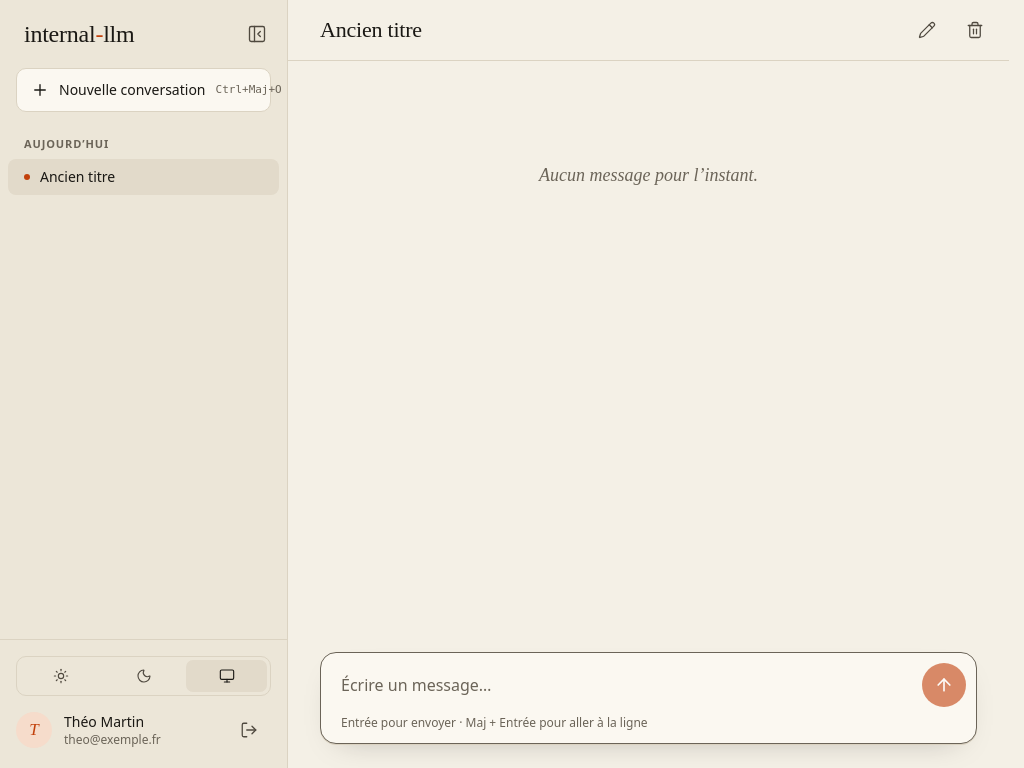
Scenario: renaming a conversation › cancels with Escape
The width and height of the screenshot is (1024, 768).
Expected: the heading "Ancien titre" is shown, [320, 17, 422, 42]
Click the button named "Renommer la conversation" at (927, 30), box [905, 8, 949, 52]
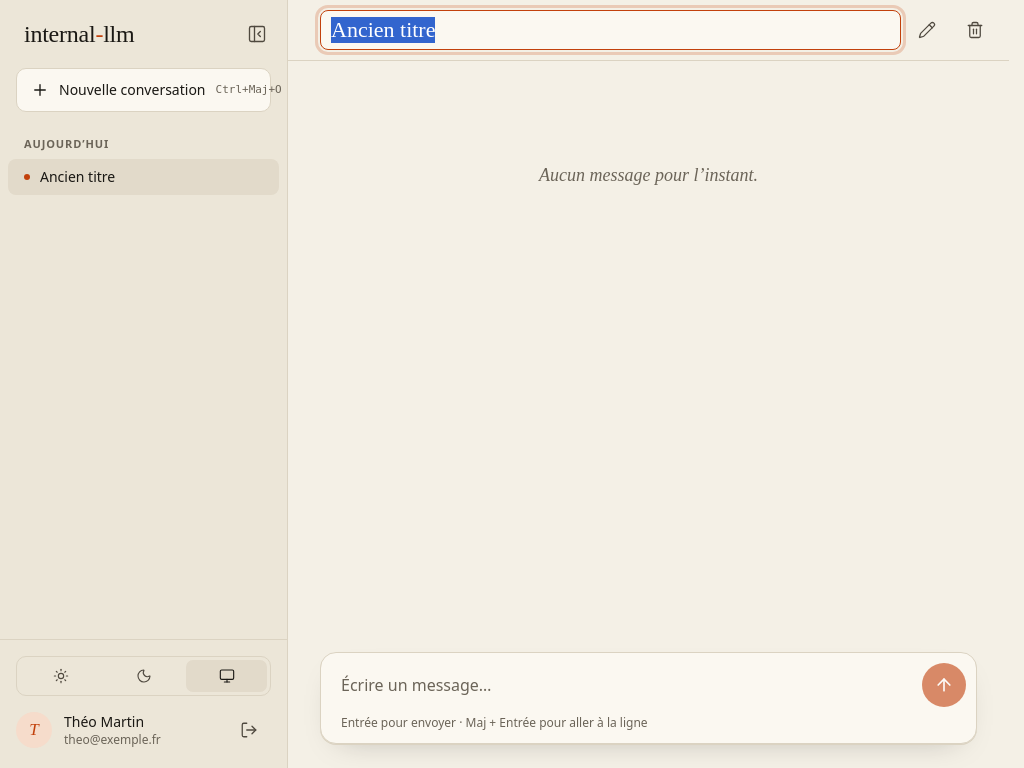
Type " modifié" into the field named "Titre de la conversation" at (610, 30), box [320, 10, 901, 50]
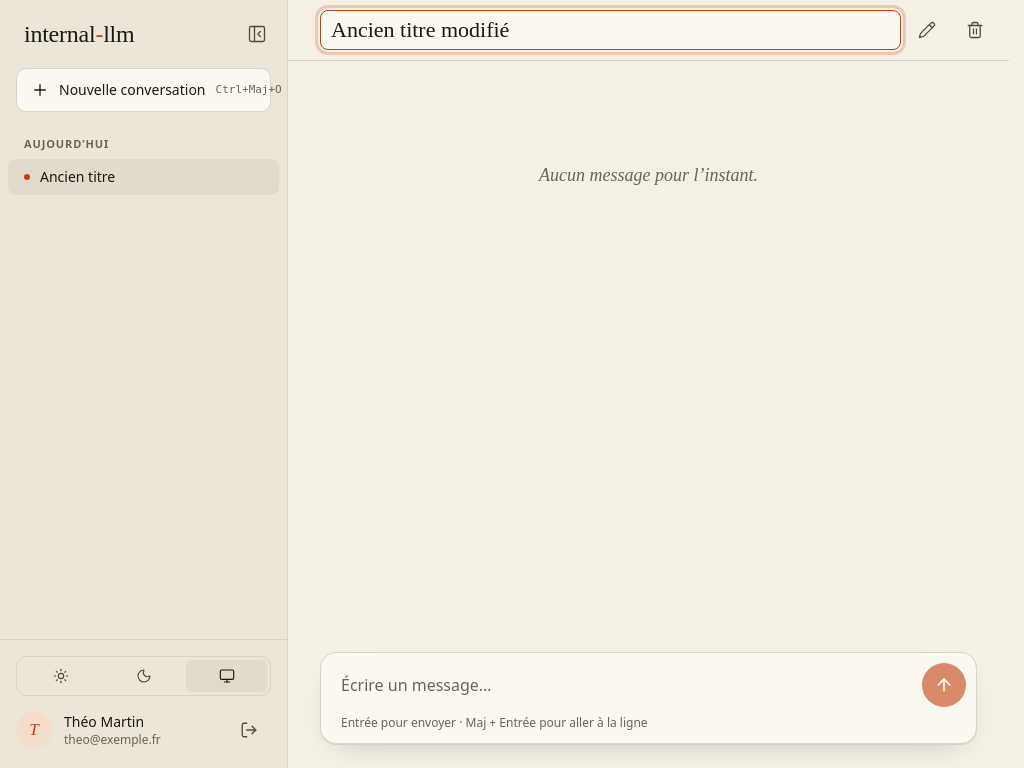
Press Escape
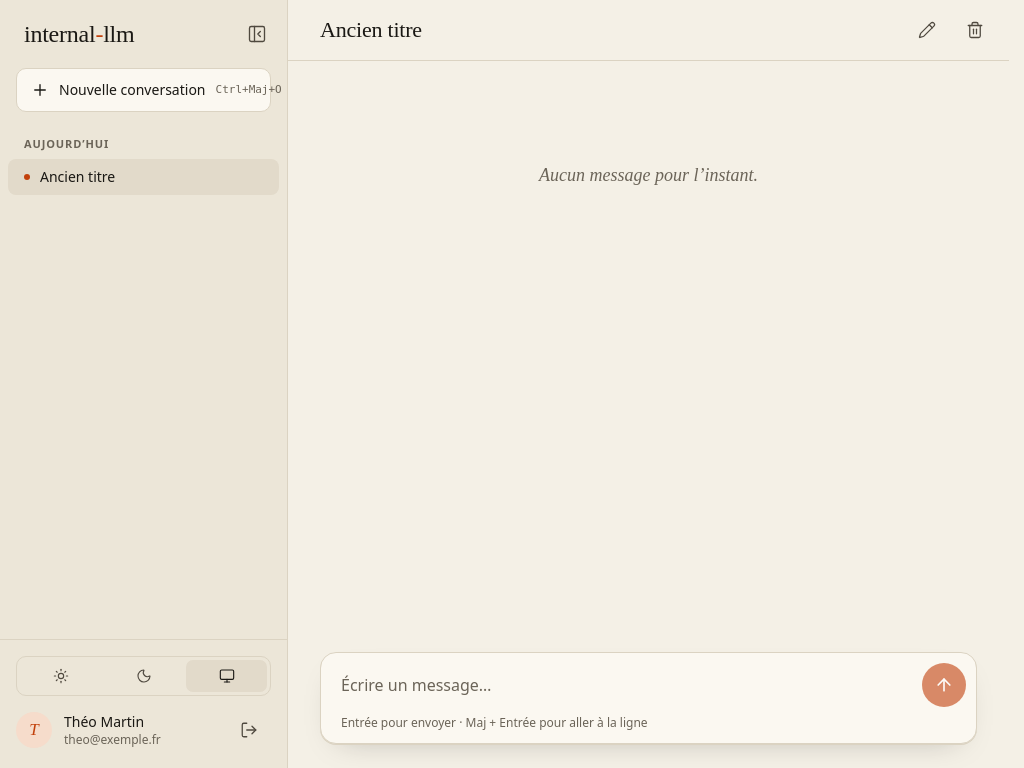
Expected: the text "Ancien titre" is shown, [40, 166, 115, 186]
Result: the heading "Ancien titre" is shown at [320, 17, 422, 42]
